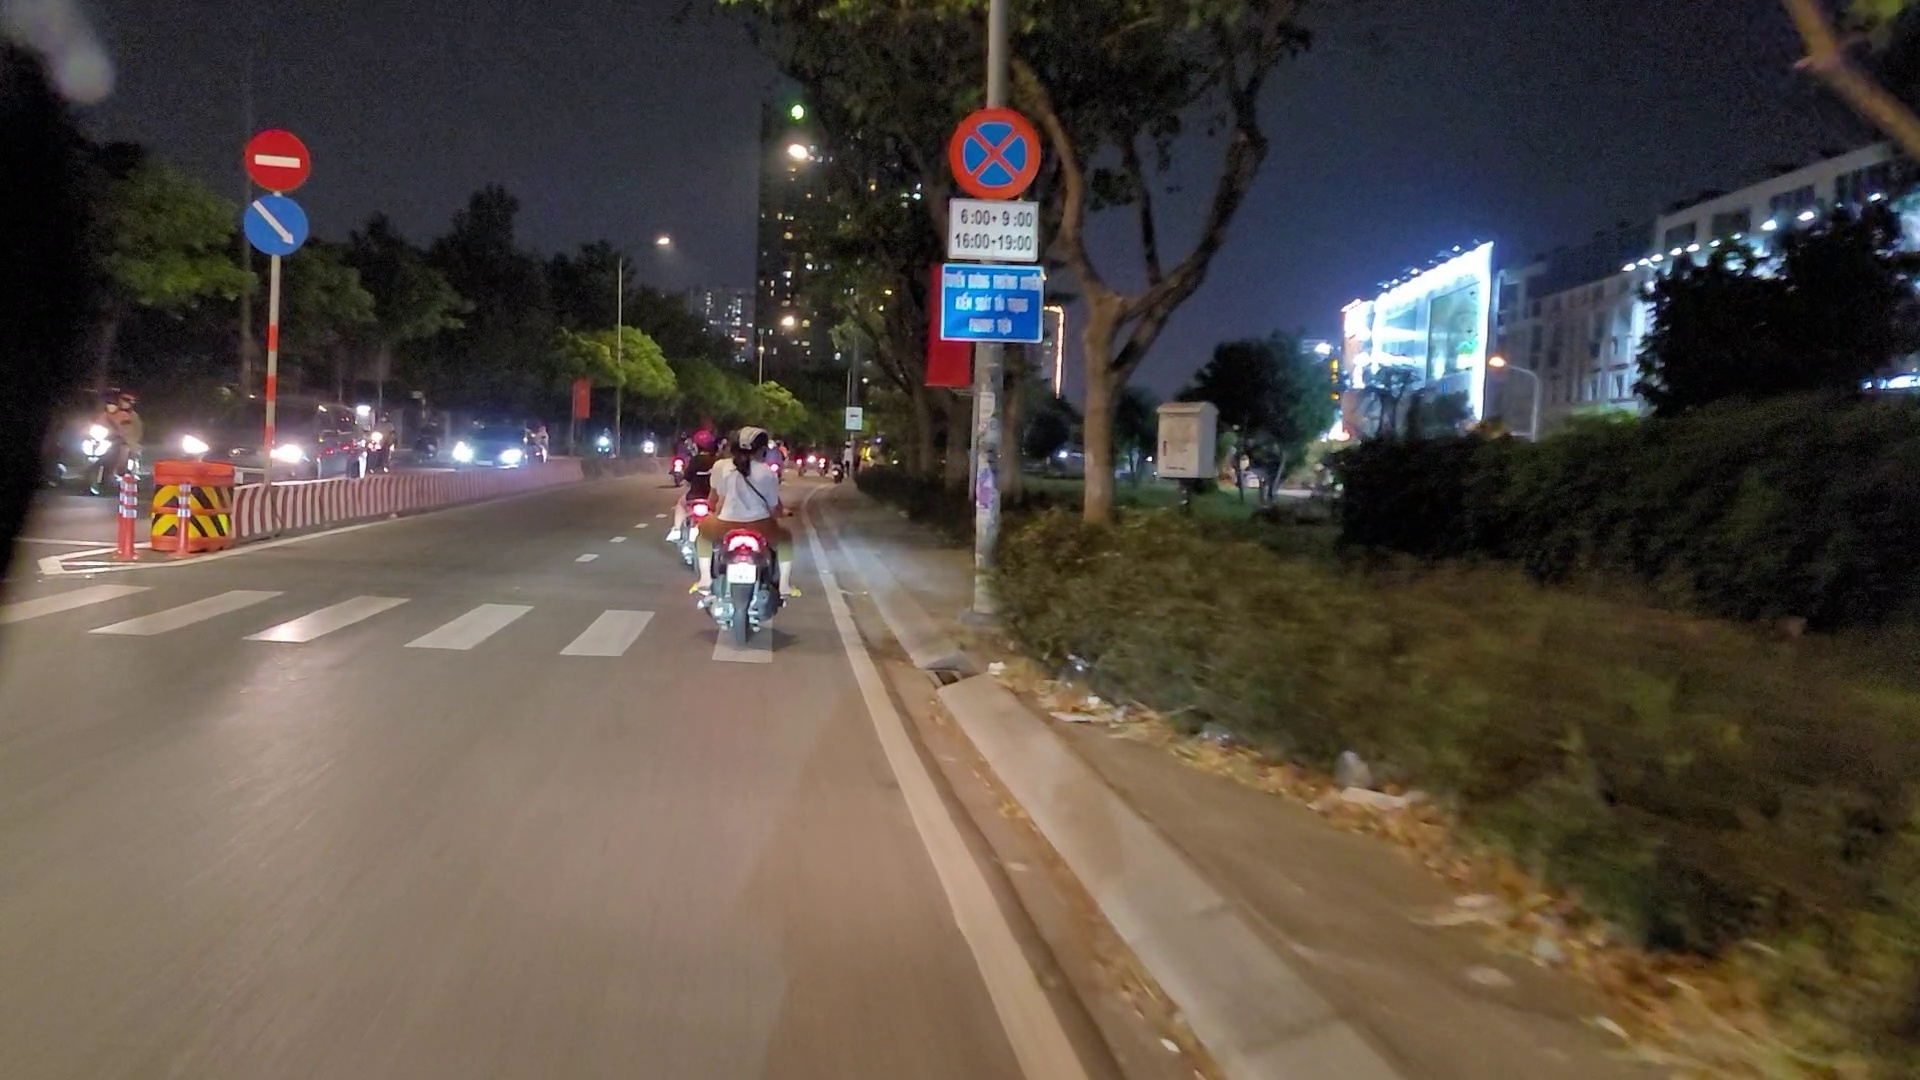Bien khac: (947, 103, 1042, 200)
Cam di nguoc chieu: (239, 127, 314, 196)
Huong di phai re phai: (244, 193, 309, 256)
